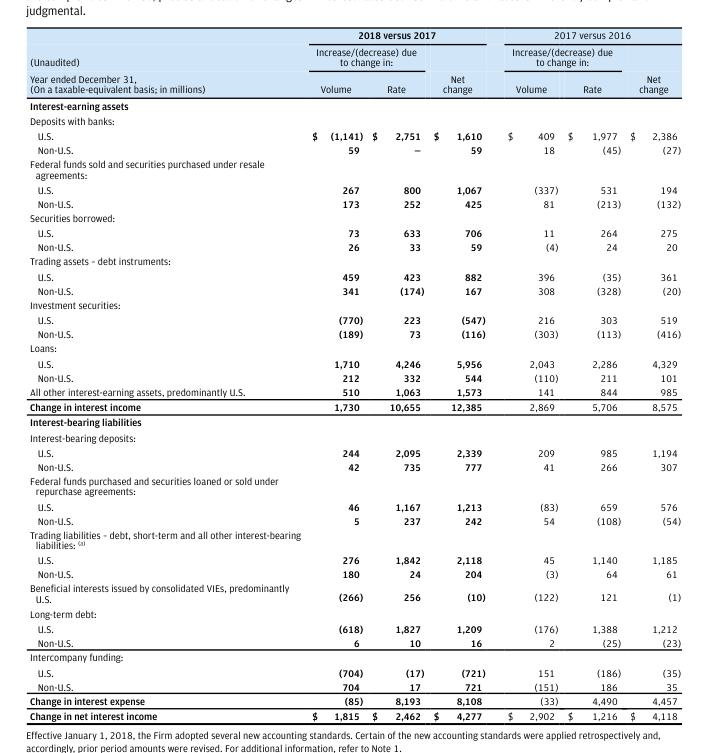table: (29, 28, 680, 721)
table column: (29, 28, 299, 721), (299, 28, 366, 721), (428, 28, 495, 721), (495, 28, 562, 721), (366, 28, 428, 721), (562, 28, 624, 721), (624, 28, 680, 721)
table column header: (29, 28, 680, 96)
table projected row header: (29, 156, 680, 181), (29, 473, 680, 498), (29, 527, 680, 551), (29, 96, 680, 112), (29, 112, 680, 127), (29, 253, 680, 268), (29, 340, 680, 355), (29, 414, 680, 429), (29, 429, 680, 444), (29, 605, 680, 620), (29, 649, 680, 664), (29, 210, 680, 224), (29, 297, 680, 311)
table row: (29, 42, 680, 74), (29, 156, 680, 181), (29, 473, 680, 498), (29, 580, 680, 605), (29, 527, 680, 551), (29, 74, 680, 96), (29, 96, 680, 112), (29, 398, 680, 414), (29, 112, 680, 127), (29, 127, 680, 142), (29, 181, 680, 196), (29, 224, 680, 239), (29, 253, 680, 268), (29, 268, 680, 283), (29, 311, 680, 326), (29, 340, 680, 355), (29, 383, 680, 398), (29, 414, 680, 429), (29, 429, 680, 444), (29, 444, 680, 459), (29, 512, 680, 527), (29, 551, 680, 566), (29, 605, 680, 620), (29, 620, 680, 635), (29, 649, 680, 664), (29, 664, 680, 679), (29, 28, 680, 42), (29, 142, 680, 156), (29, 196, 680, 210), (29, 210, 680, 224), (29, 239, 680, 253), (29, 283, 680, 297), (29, 297, 680, 311), (29, 326, 680, 340), (29, 355, 680, 369), (29, 369, 680, 383), (29, 459, 680, 473), (29, 498, 680, 512), (29, 566, 680, 580), (29, 635, 680, 649), (29, 679, 680, 693), (29, 693, 680, 707), (29, 707, 680, 721)
table spanning cell: (29, 28, 299, 96), (299, 42, 428, 74), (495, 42, 624, 74), (428, 42, 495, 96), (624, 42, 680, 96), (299, 28, 495, 42), (495, 28, 680, 42)
